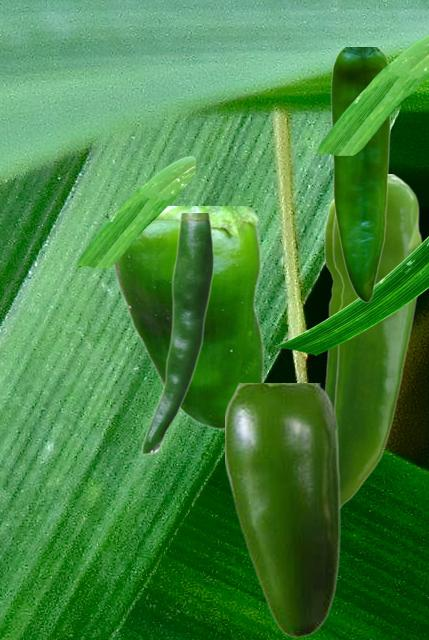green_chili: (111, 206, 263, 429), (330, 174, 421, 509), (225, 383, 339, 637), (140, 213, 212, 454), (330, 47, 390, 301), (323, 199, 341, 401)
